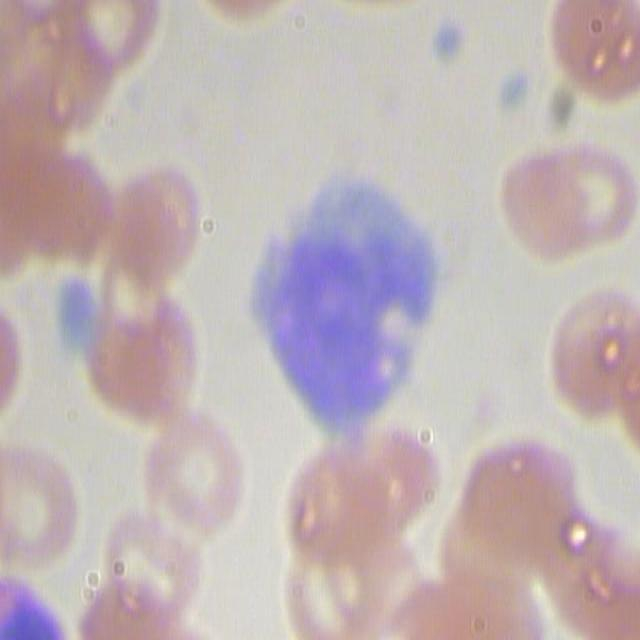RBC: (94, 267, 205, 418), (493, 158, 633, 255), (453, 446, 577, 548), (543, 511, 638, 640), (285, 440, 391, 555), (425, 525, 527, 640), (549, 299, 640, 418), (117, 161, 201, 286), (148, 414, 244, 523), (0, 439, 77, 574), (109, 507, 202, 617), (28, 143, 108, 266), (278, 549, 380, 640), (549, 0, 640, 97), (360, 434, 434, 538), (76, 573, 186, 640), (37, 39, 116, 132), (72, 0, 161, 73)
WBC: (246, 174, 444, 433)
platelets: (54, 286, 98, 344), (432, 18, 462, 63), (502, 66, 528, 113)
